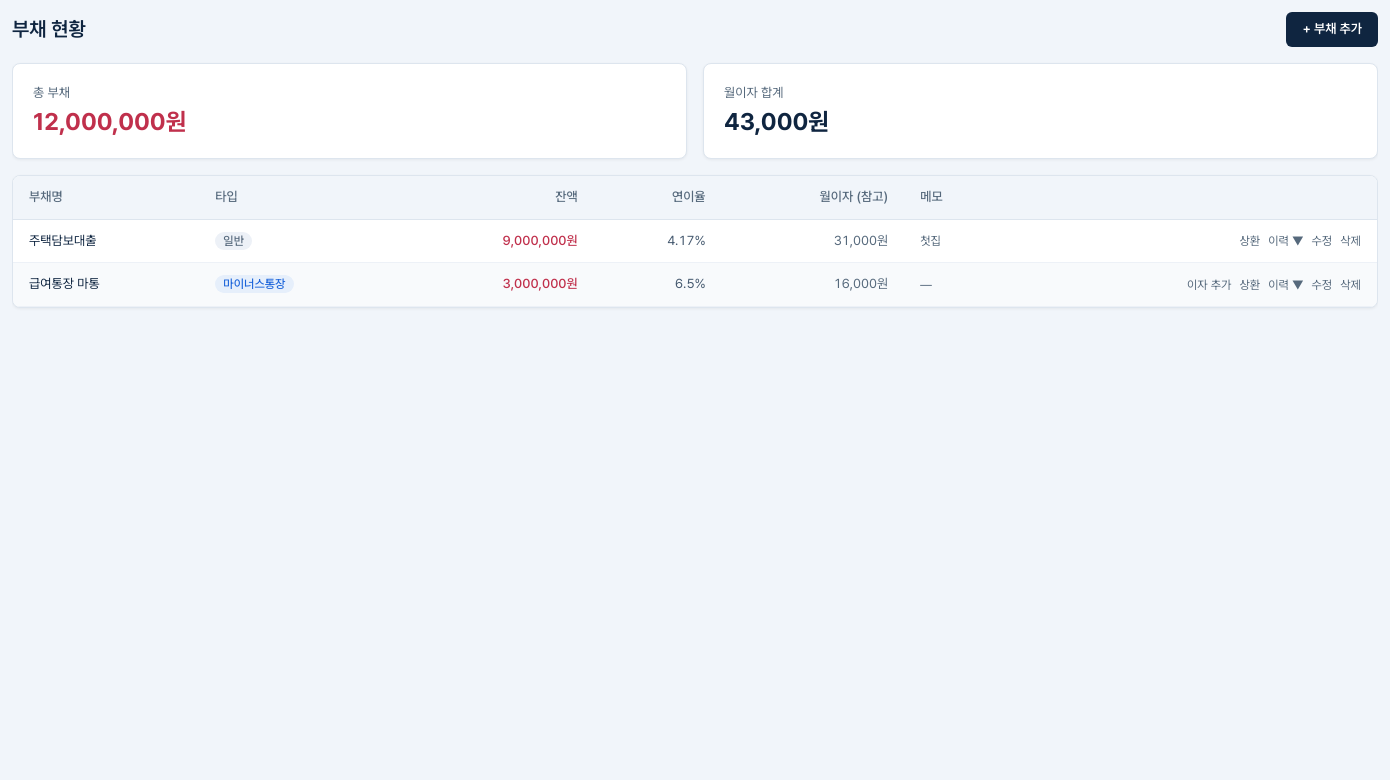
Scenario: 수정 폼이 가리키는 대상 › 수정을 열어 둔 채 추가로 넘어가면 빈 폼이 된다
The width and height of the screenshot is (1390, 780).
Expected: the text "주택담보대출" is shown, [13,219,199,263]
Click the button "수정" in the row of "주택담보대출".
click(1322, 241)  # box [1312,233,1332,249]
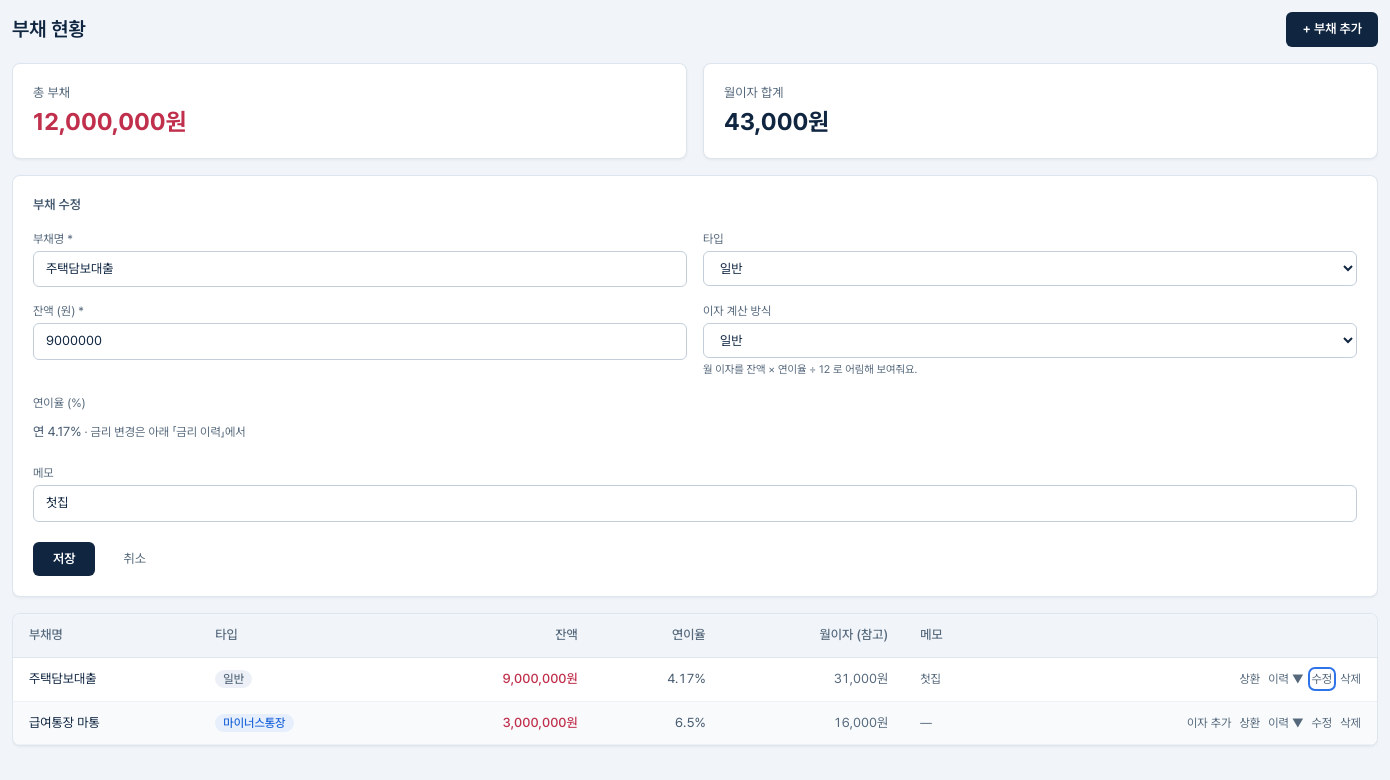
Click the button "+ 부채 추가".
click(1332, 29)  # box [1286,12,1378,47]
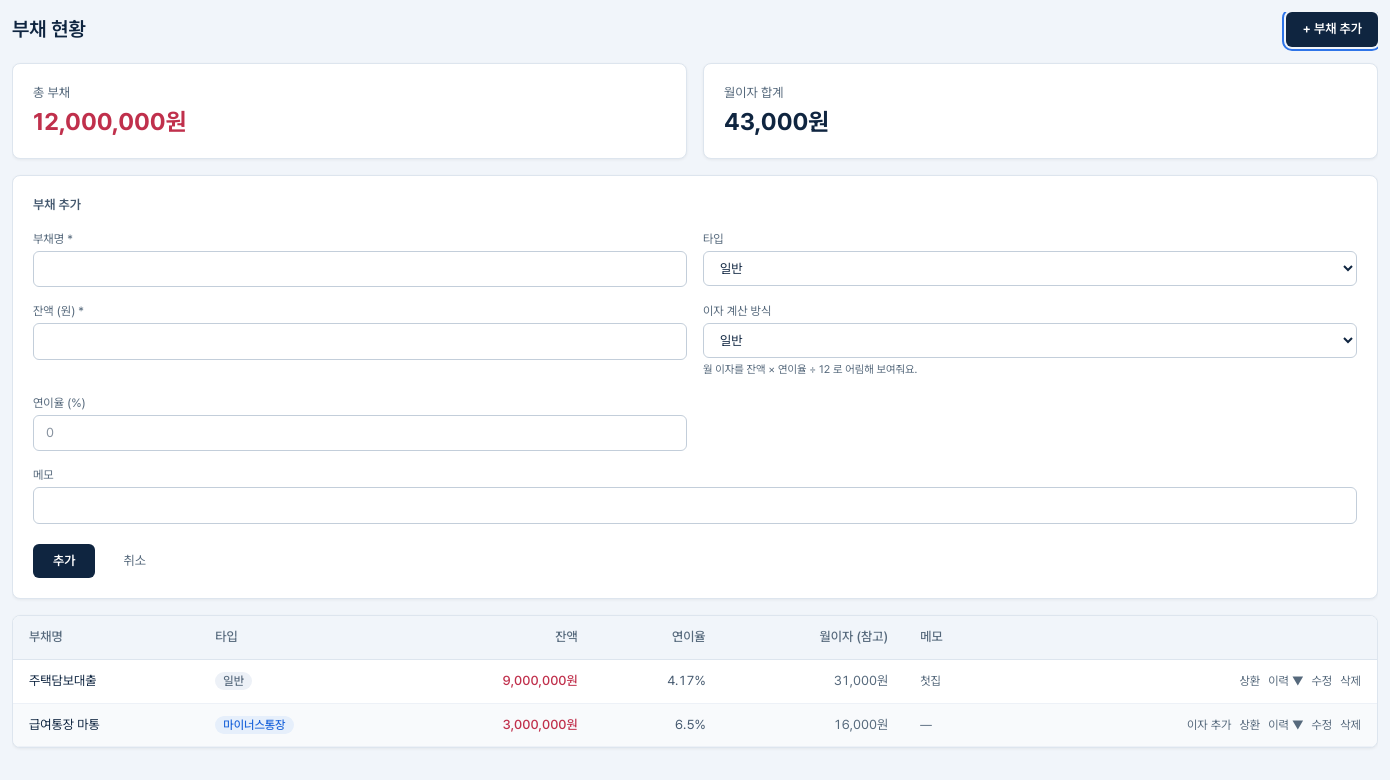
Now the heading "부채 추가" is shown, box [33,197,81,212]
Now the field labelled "부채명 *" is empty, box [33,251,687,287]
